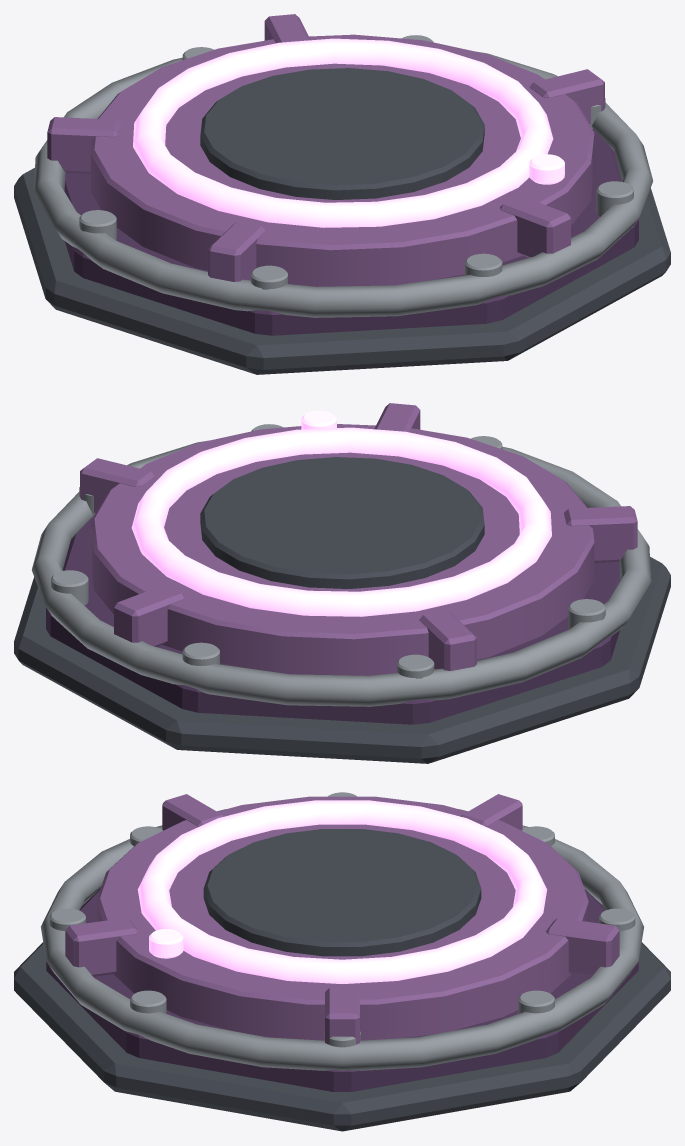
The model's file is void_base_l1.glb.
3 renders of one model, top to bottom at view 1: azimuth 30°, elevation 25°; view 2: azimuth 150°, elevation 25°; view 3: azimuth 270°, elevation 25°, orthographic. The views are drawn at different scales.
Visible parts, largest first — view 1: Cylinder.002, Cylinder.003, Cylinder, Torus, Torus.001, Cylinder.001, Cube.004, Cube.002, Cube.003, Cube, Cube.001, Cylinder.012 (+4 smaller); view 2: Cylinder.002, Cylinder.003, Cylinder, Torus, Torus.001, Cylinder.001, Cube.001, Cube.003, Cube.002, Cube, Cube.004, Cylinder.005 (+4 smaller); view 3: Cylinder.002, Cylinder, Cylinder.003, Torus, Torus.001, Cylinder.001, Cube.001, Cube.004, Cube, Cube.002, Cube.003, Cylinder.012 (+4 smaller).
Boxes of the visible parts, x1,y1,x2,y2 form: Cylinder.002: (90, 34, 594, 286); Cylinder.003: (200, 68, 484, 199); Cylinder: (14, 168, 670, 374); Torus: (33, 51, 652, 317); Torus.001: (133, 38, 553, 227); Cylinder.001: (64, 129, 638, 335); Cube.004: (500, 196, 570, 257); Cube.002: (47, 117, 120, 173); Cube.003: (208, 221, 265, 281); Cube: (530, 69, 604, 123); Cube.001: (264, 14, 310, 43); Cylinder.012: (529, 154, 564, 184); Cylinder.002: (90, 424, 594, 675); Cylinder.003: (200, 457, 484, 588); Cylinder: (14, 557, 670, 763); Torus: (32, 440, 651, 706); Torus.001: (131, 427, 551, 616); Cylinder.001: (46, 518, 620, 724); Cube.001: (114, 585, 184, 646); Cube.003: (564, 506, 637, 562); Cube.002: (419, 610, 476, 670); Cube: (80, 458, 154, 512); Cube.004: (374, 403, 420, 432); Cylinder.005: (51, 570, 88, 605); Cylinder.002: (96, 796, 588, 1040); Cylinder: (14, 900, 670, 1131); Cylinder.003: (203, 829, 481, 956); Torus: (41, 809, 643, 1070); Torus.001: (137, 800, 547, 983); Cylinder.001: (46, 889, 638, 1091); Cube.001: (545, 918, 619, 976); Cube.004: (65, 918, 139, 976); Cube: (325, 988, 359, 1044); Cube.002: (460, 794, 522, 830); Cube.003: (162, 794, 224, 830); Cylinder.012: (149, 929, 183, 958).
Bounding box in the file's own units: 2.08 × 0.4 × 2.08.
